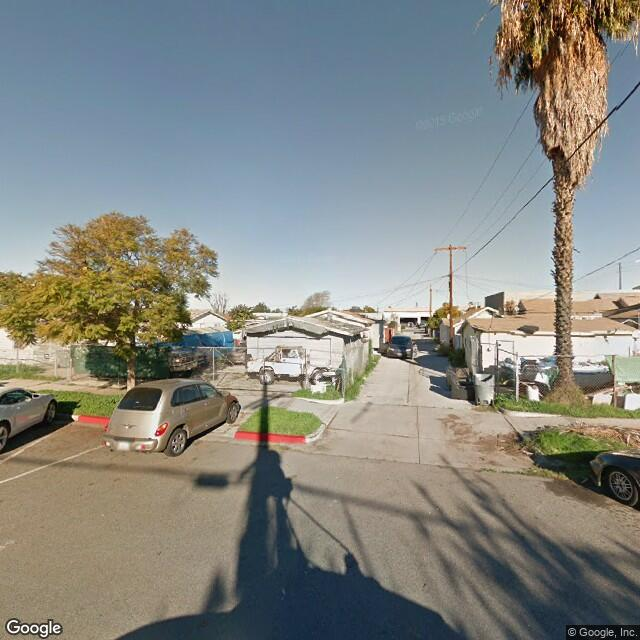litter: (307, 376, 343, 407)
